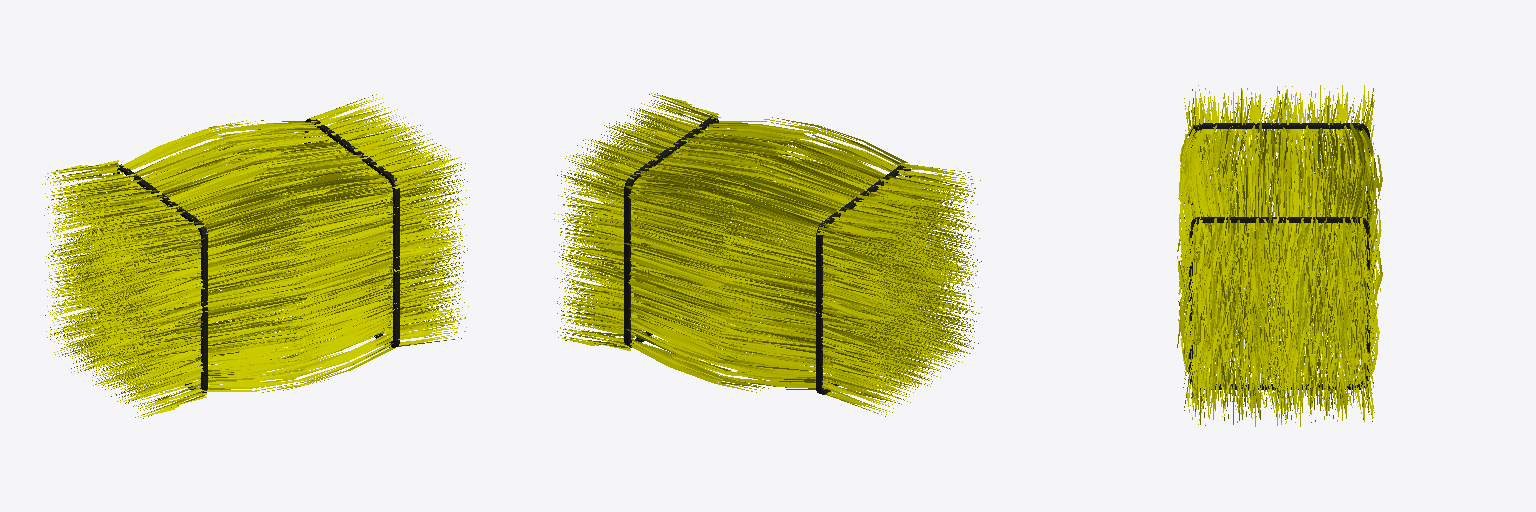
The model's file is weed.obj.
3 views of the same model, side by side, from view 1: azimuth 30°, elevation 25°; view 2: azimuth 150°, elevation 25°; view 3: azimuth 270°, elevation 25° (orthographic).
Parts seen in each view (by area): view 1: wires_hay, wires_wires; view 2: wires_hay, wires_wires; view 3: wires_hay, wires_wires.
Boxes of the visible parts, x1,y1,x2,y2 form: wires_hay: [42, 94, 469, 418]; wires_wires: [113, 119, 399, 392]; wires_hay: [554, 93, 981, 416]; wires_wires: [624, 117, 911, 394]; wires_hay: [1177, 85, 1382, 426]; wires_wires: [1189, 123, 1369, 389].
Size of the model in its own units: 0.6975 by 0.3834 by 0.3701.